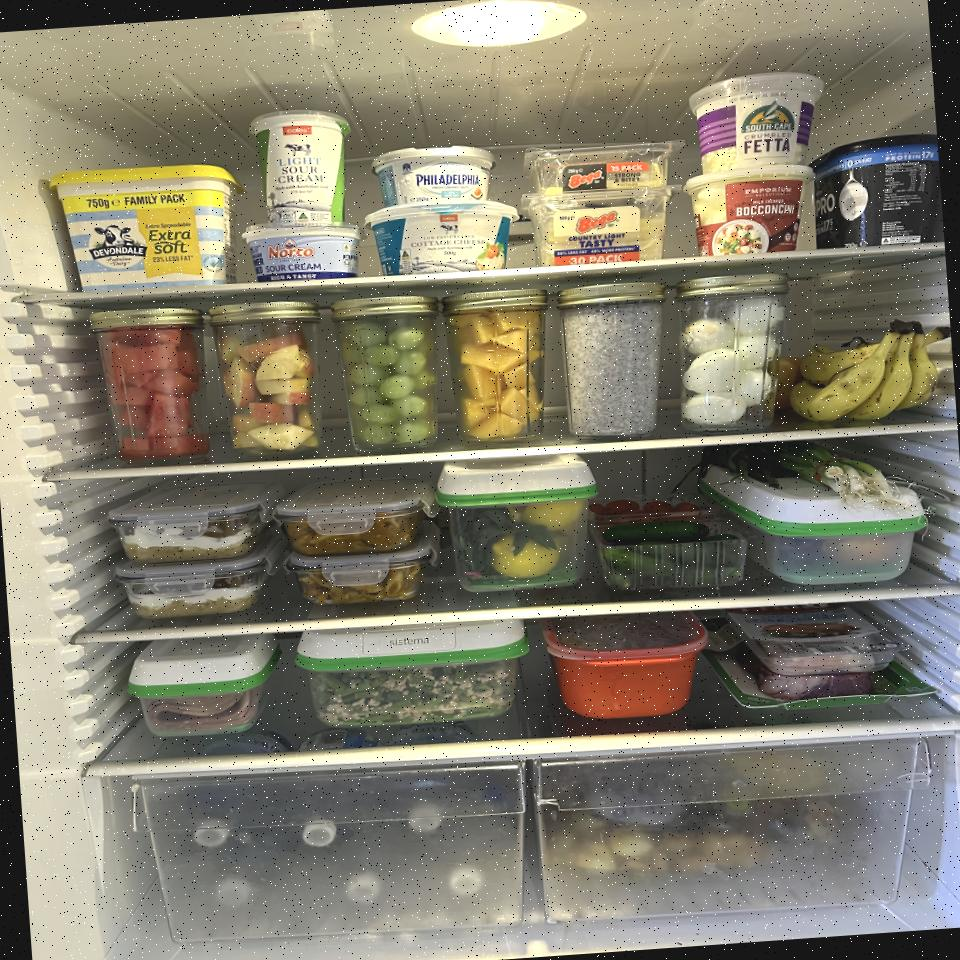Limón: (491, 531, 561, 581), (518, 497, 586, 533)
Pepino: (601, 516, 746, 595)
Plátano: (788, 316, 956, 426)
Tomate: (588, 489, 715, 526)
Yogur: (248, 106, 358, 229), (244, 220, 371, 286)
